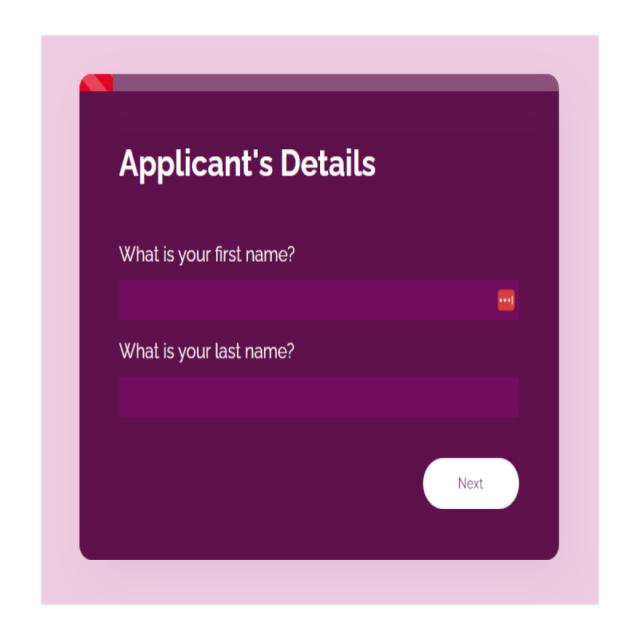buttons: (425, 460, 519, 510)
input-fields: (121, 242, 526, 330), (120, 342, 524, 429)
text: (122, 149, 377, 183)
